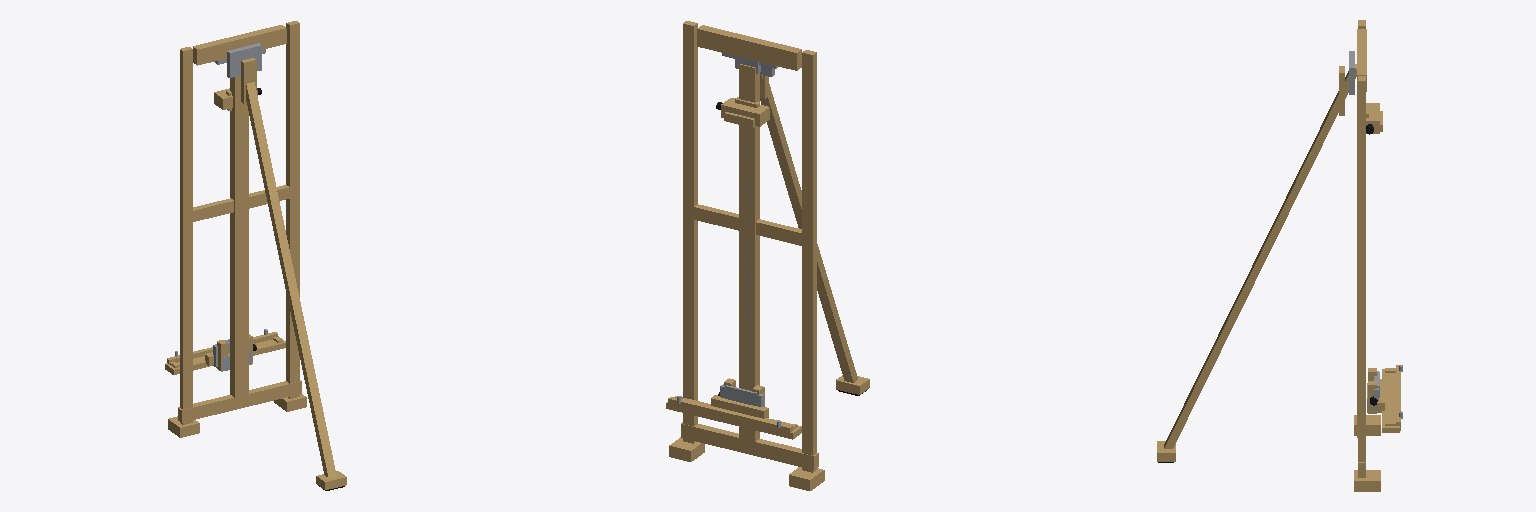
The robot description file, URDF, robot "artists_easel":
<robot name="artists_easel">
  <link name="front_frame">
    <inertial>
      <origin xyz="0 0.018 0.86" rpy="0 0 0" />
      <mass value="8.5" />
      <inertia ixx="2.10573" ixy="0" ixz="0" iyy="2.35053" iyz="0" izz="0.2652" />
      </inertial>
    <visual name="left_upright">
      <origin xyz="-0.245 0 0.845" rpy="0 0 0" />
      <geometry>
        <box size="0.045 0.028 1.68" />
        </geometry>
      <material name="beech_wood">
        <color rgba="0.77 0.65 0.45 1" />
        </material>
      </visual>
    <visual name="right_upright">
      <origin xyz="0.245 0 0.845" rpy="0 0 0" />
      <geometry>
        <box size="0.045 0.028 1.68" />
        </geometry>
      <material name="beech_wood">
        <color rgba="0.77 0.65 0.45 1" />
        </material>
      </visual>
    <visual name="left_foot">
      <origin xyz="-0.245 0.02 0.0225" rpy="0 0 0" />
      <geometry>
        <box size="0.09 0.1 0.045" />
        </geometry>
      <material name="beech_wood">
        <color rgba="0.77 0.65 0.45 1" />
        </material>
      </visual>
    <visual name="right_foot">
      <origin xyz="0.245 0.02 0.0225" rpy="0 0 0" />
      <geometry>
        <box size="0.09 0.1 0.045" />
        </geometry>
      <material name="beech_wood">
        <color rgba="0.77 0.65 0.45 1" />
        </material>
      </visual>
    <visual name="left_foot_pad">
      <origin xyz="-0.245 0.022 0.006" rpy="0 0 0" />
      <geometry>
        <box size="0.074 0.082 0.012" />
        </geometry>
      <material name="rubber">
        <color rgba="0.08 0.08 0.09 1" />
        </material>
      </visual>
    <visual name="right_foot_pad">
      <origin xyz="0.245 0.022 0.006" rpy="0 0 0" />
      <geometry>
        <box size="0.074 0.082 0.012" />
        </geometry>
      <material name="rubber">
        <color rgba="0.08 0.08 0.09 1" />
        </material>
      </visual>
    <visual name="bottom_stretcher">
      <origin xyz="0 0 0.085" rpy="0 0 0" />
      <geometry>
        <box size="0.55 0.032 0.055" />
        </geometry>
      <material name="beech_wood">
        <color rgba="0.77 0.65 0.45 1" />
        </material>
      </visual>
    <visual name="mid_stretcher">
      <origin xyz="0 0 0.95" rpy="0 0 0" />
      <geometry>
        <box size="0.495 0.028 0.05" />
        </geometry>
      <material name="beech_wood">
        <color rgba="0.77 0.65 0.45 1" />
        </material>
      </visual>
    <visual name="top_cap">
      <origin xyz="0 0 1.645" rpy="0 0 0" />
      <geometry>
        <box size="0.41 0.038 0.07" />
        </geometry>
      <material name="beech_wood">
        <color rgba="0.77 0.65 0.45 1" />
        </material>
      </visual>
    <visual name="center_mast">
      <origin xyz="0 0 0.84" rpy="0 0 0" />
      <geometry>
        <box size="0.065 0.034 1.48" />
        </geometry>
      <material name="beech_wood">
        <color rgba="0.77 0.65 0.45 1" />
        </material>
      </visual>
    <visual name="slide_track">
      <origin xyz="0 0.01 0.86" rpy="0 0 0" />
      <geometry>
        <box size="0.03 0.014 1.18" />
        </geometry>
      <material name="brushed_steel">
        <color rgba="0.63 0.65 0.67 1" />
        </material>
      </visual>
    <visual name="top_holder_body">
      <origin xyz="0 0.03 1.405" rpy="0 0 0" />
      <geometry>
        <box size="0.16 0.072 0.05" />
        </geometry>
      <material name="beech_wood">
        <color rgba="0.77 0.65 0.45 1" />
        </material>
      </visual>
    <visual name="top_holder_lip">
      <origin xyz="0 0.066 1.392" rpy="0 0 0" />
      <geometry>
        <box size="0.12 0.026 0.032" />
        </geometry>
      <material name="beech_wood">
        <color rgba="0.77 0.65 0.45 1" />
        </material>
      </visual>
    <visual name="top_holder_backplate">
      <origin xyz="0 0.016 1.404" rpy="0 0 0" />
      <geometry>
        <box size="0.092 0.022 0.08" />
        </geometry>
      <material name="beech_wood">
        <color rgba="0.77 0.65 0.45 1" />
        </material>
      </visual>
    <visual name="top_holder_knob">
      <origin xyz="0.082 0.03 1.405" rpy="0 1.5708 0" />
      <geometry>
        <cylinder radius="0.014" length="0.06" />
        </geometry>
      <material name="black_plastic">
        <color rgba="0.14 0.14 0.15 1" />
        </material>
      </visual>
    <visual name="rear_hinge_boss">
      <origin xyz="0 -0.006 1.62" rpy="0 0 0" />
      <geometry>
        <box size="0.22 0.02 0.06" />
        </geometry>
      <material name="brushed_steel">
        <color rgba="0.63 0.65 0.67 1" />
        </material>
      </visual>
    <visual name="hinge_reinforcement">
      <origin xyz="0 0 1.602" rpy="0 0 0" />
      <geometry>
        <box size="0.08 0.024 0.09" />
        </geometry>
      <material name="brushed_steel">
        <color rgba="0.63 0.65 0.67 1" />
        </material>
      </visual>
    <collision name="front_frame__left_upright">
      <origin xyz="-0.245 0 0.845" rpy="0 0 0" />
      <geometry>
        <box size="0.045 0.028 1.68" />
        </geometry>
      </collision>
    <collision name="front_frame__right_upright">
      <origin xyz="0.245 0 0.845" rpy="0 0 0" />
      <geometry>
        <box size="0.045 0.028 1.68" />
        </geometry>
      </collision>
    <collision name="front_frame__left_foot">
      <origin xyz="-0.245 0.02 0.0225" rpy="0 0 0" />
      <geometry>
        <box size="0.09 0.1 0.045" />
        </geometry>
      </collision>
    <collision name="front_frame__right_foot">
      <origin xyz="0.245 0.02 0.0225" rpy="0 0 0" />
      <geometry>
        <box size="0.09 0.1 0.045" />
        </geometry>
      </collision>
    <collision name="front_frame__left_foot_pad">
      <origin xyz="-0.245 0.022 0.006" rpy="0 0 0" />
      <geometry>
        <box size="0.074 0.082 0.012" />
        </geometry>
      </collision>
    <collision name="front_frame__right_foot_pad">
      <origin xyz="0.245 0.022 0.006" rpy="0 0 0" />
      <geometry>
        <box size="0.074 0.082 0.012" />
        </geometry>
      </collision>
    <collision name="front_frame__bottom_stretcher">
      <origin xyz="0 0 0.085" rpy="0 0 0" />
      <geometry>
        <box size="0.55 0.032 0.055" />
        </geometry>
      </collision>
    <collision name="front_frame__mid_stretcher">
      <origin xyz="0 0 0.95" rpy="0 0 0" />
      <geometry>
        <box size="0.495 0.028 0.05" />
        </geometry>
      </collision>
    <collision name="front_frame__top_cap">
      <origin xyz="0 0 1.645" rpy="0 0 0" />
      <geometry>
        <box size="0.41 0.038 0.07" />
        </geometry>
      </collision>
    <collision name="front_frame__center_mast">
      <origin xyz="0 0 0.84" rpy="0 0 0" />
      <geometry>
        <box size="0.065 0.034 1.48" />
        </geometry>
      </collision>
    <collision name="front_frame__slide_track">
      <origin xyz="0 0.01 0.86" rpy="0 0 0" />
      <geometry>
        <box size="0.03 0.014 1.18" />
        </geometry>
      </collision>
    <collision name="front_frame__top_holder_body">
      <origin xyz="0 0.03 1.405" rpy="0 0 0" />
      <geometry>
        <box size="0.16 0.072 0.05" />
        </geometry>
      </collision>
    <collision name="front_frame__top_holder_lip">
      <origin xyz="0 0.066 1.392" rpy="0 0 0" />
      <geometry>
        <box size="0.12 0.026 0.032" />
        </geometry>
      </collision>
    <collision name="front_frame__top_holder_backplate">
      <origin xyz="0 0.016 1.404" rpy="0 0 0" />
      <geometry>
        <box size="0.092 0.022 0.08" />
        </geometry>
      </collision>
    <collision name="front_frame__top_holder_knob">
      <origin xyz="0.082 0.03 1.405" rpy="0 1.5708 0" />
      <geometry>
        <cylinder radius="0.014" length="0.06" />
        </geometry>
      </collision>
    <collision name="front_frame__rear_hinge_boss">
      <origin xyz="0 -0.006 1.62" rpy="0 0 0" />
      <geometry>
        <box size="0.22 0.02 0.06" />
        </geometry>
      </collision>
    <collision name="front_frame__hinge_reinforcement">
      <origin xyz="0 0 1.602" rpy="0 0 0" />
      <geometry>
        <box size="0.08 0.024 0.09" />
        </geometry>
      </collision>
    </link>
  <link name="canvas_tray">
    <inertial>
      <origin xyz="0 0.07 0.055" rpy="0 0 0" />
      <mass value="1.7" />
      <inertia ixx="0.00517083" ixy="0" ixz="0" iyy="0.0440867" iyz="0" izz="0.0437042" />
      </inertial>
    <visual name="mast_clamp">
      <origin xyz="0 0.022 0.03" rpy="0 0 0" />
      <geometry>
        <box size="0.14 0.044 0.06" />
        </geometry>
      <material name="brushed_steel">
        <color rgba="0.63 0.65 0.67 1" />
        </material>
      </visual>
    <visual name="left_carriage_cheek">
      <origin xyz="-0.058 0.02 0.06" rpy="0 0 0" />
      <geometry>
        <box size="0.03 0.036 0.12" />
        </geometry>
      <material name="beech_wood">
        <color rgba="0.77 0.65 0.45 1" />
        </material>
      </visual>
    <visual name="right_carriage_cheek">
      <origin xyz="0.058 0.02 0.06" rpy="0 0 0" />
      <geometry>
        <box size="0.03 0.036 0.12" />
        </geometry>
      <material name="beech_wood">
        <color rgba="0.77 0.65 0.45 1" />
        </material>
      </visual>
    <visual name="rear_guide_plate">
      <origin xyz="0 0.042 0.055" rpy="0 0 0" />
      <geometry>
        <box size="0.128 0.01 0.11" />
        </geometry>
      <material name="brushed_steel">
        <color rgba="0.63 0.65 0.67 1" />
        </material>
      </visual>
    <visual name="front_bridge_plate">
      <origin xyz="0 0.035 0.058" rpy="0 0 0" />
      <geometry>
        <box size="0.17 0.02 0.09" />
        </geometry>
      <material name="brushed_steel">
        <color rgba="0.63 0.65 0.67 1" />
        </material>
      </visual>
    <visual name="support_arm">
      <origin xyz="0 0.052 0.04" rpy="0 0 0" />
      <geometry>
        <box size="0.22 0.032 0.04" />
        </geometry>
      <material name="beech_wood">
        <color rgba="0.77 0.65 0.45 1" />
        </material>
      </visual>
    <visual name="tray_board">
      <origin xyz="0 0.09 0.018" rpy="0 0 0" />
      <geometry>
        <box size="0.52 0.068 0.024" />
        </geometry>
      <material name="beech_wood">
        <color rgba="0.77 0.65 0.45 1" />
        </material>
      </visual>
    <visual name="front_lip">
      <origin xyz="0 0.118 0.031" rpy="0 0 0" />
      <geometry>
        <box size="0.5 0.02 0.038" />
        </geometry>
      <material name="beech_wood">
        <color rgba="0.77 0.65 0.45 1" />
        </material>
      </visual>
    <visual name="left_canvas_fence">
      <origin xyz="-0.236 0.094 0.026" rpy="0 0 0" />
      <geometry>
        <box size="0.02 0.054 0.025" />
        </geometry>
      <material name="beech_wood">
        <color rgba="0.77 0.65 0.45 1" />
        </material>
      </visual>
    <visual name="right_canvas_fence">
      <origin xyz="0.236 0.094 0.026" rpy="0 0 0" />
      <geometry>
        <box size="0.02 0.054 0.025" />
        </geometry>
      <material name="beech_wood">
        <color rgba="0.77 0.65 0.45 1" />
        </material>
      </visual>
    <visual name="tray_lock_knob">
      <origin xyz="0.08 0.026 0.058" rpy="0 1.5708 0" />
      <geometry>
        <cylinder radius="0.014" length="0.032" />
        </geometry>
      <material name="black_plastic">
        <color rgba="0.14 0.14 0.15 1" />
        </material>
      </visual>
    <visual name="left_page_stop">
      <origin xyz="-0.205 0.128 0.056" rpy="0 0 0" />
      <geometry>
        <cylinder radius="0.007" length="0.024" />
        </geometry>
      <material name="brushed_steel">
        <color rgba="0.63 0.65 0.67 1" />
        </material>
      </visual>
    <visual name="right_page_stop">
      <origin xyz="0.205 0.128 0.056" rpy="0 0 0" />
      <geometry>
        <cylinder radius="0.007" length="0.024" />
        </geometry>
      <material name="brushed_steel">
        <color rgba="0.63 0.65 0.67 1" />
        </material>
      </visual>
    <collision name="canvas_tray__mast_clamp">
      <origin xyz="0 0.022 0.03" rpy="0 0 0" />
      <geometry>
        <box size="0.14 0.044 0.06" />
        </geometry>
      </collision>
    <collision name="canvas_tray__left_carriage_cheek">
      <origin xyz="-0.058 0.02 0.06" rpy="0 0 0" />
      <geometry>
        <box size="0.03 0.036 0.12" />
        </geometry>
      </collision>
    <collision name="canvas_tray__right_carriage_cheek">
      <origin xyz="0.058 0.02 0.06" rpy="0 0 0" />
      <geometry>
        <box size="0.03 0.036 0.12" />
        </geometry>
      </collision>
    <collision name="canvas_tray__rear_guide_plate">
      <origin xyz="0 0.042 0.055" rpy="0 0 0" />
      <geometry>
        <box size="0.128 0.01 0.11" />
        </geometry>
      </collision>
    <collision name="canvas_tray__front_bridge_plate">
      <origin xyz="0 0.035 0.058" rpy="0 0 0" />
      <geometry>
        <box size="0.17 0.02 0.09" />
        </geometry>
      </collision>
    <collision name="canvas_tray__support_arm">
      <origin xyz="0 0.052 0.04" rpy="0 0 0" />
      <geometry>
        <box size="0.22 0.032 0.04" />
        </geometry>
      </collision>
    <collision name="canvas_tray__tray_board">
      <origin xyz="0 0.09 0.018" rpy="0 0 0" />
      <geometry>
        <box size="0.52 0.068 0.024" />
        </geometry>
      </collision>
    <collision name="canvas_tray__front_lip">
      <origin xyz="0 0.118 0.031" rpy="0 0 0" />
      <geometry>
        <box size="0.5 0.02 0.038" />
        </geometry>
      </collision>
    <collision name="canvas_tray__left_canvas_fence">
      <origin xyz="-0.236 0.094 0.026" rpy="0 0 0" />
      <geometry>
        <box size="0.02 0.054 0.025" />
        </geometry>
      </collision>
    <collision name="canvas_tray__right_canvas_fence">
      <origin xyz="0.236 0.094 0.026" rpy="0 0 0" />
      <geometry>
        <box size="0.02 0.054 0.025" />
        </geometry>
      </collision>
    <collision name="canvas_tray__tray_lock_knob">
      <origin xyz="0.08 0.026 0.058" rpy="0 1.5708 0" />
      <geometry>
        <cylinder radius="0.014" length="0.032" />
        </geometry>
      </collision>
    <collision name="canvas_tray__left_page_stop">
      <origin xyz="-0.205 0.128 0.056" rpy="0 0 0" />
      <geometry>
        <cylinder radius="0.007" length="0.024" />
        </geometry>
      </collision>
    <collision name="canvas_tray__right_page_stop">
      <origin xyz="0.205 0.128 0.056" rpy="0 0 0" />
      <geometry>
        <cylinder radius="0.007" length="0.024" />
        </geometry>
      </collision>
    </link>
  <link name="rear_leg">
    <inertial>
      <origin xyz="0 -0.39 -0.88" rpy="0 0 0" />
      <mass value="2.3" />
      <inertia ixx="0.710317" ixy="0" ixz="0" iyy="0.599917" iyz="0" izz="0.12282" />
      </inertial>
    <visual name="rear_support">
      <origin xyz="0 -0.358829 -0.803518" rpy="-0.42 0 0" />
      <geometry>
        <box size="0.038 0.03 1.76" />
        </geometry>
      <material name="beech_wood">
        <color rgba="0.77 0.65 0.45 1" />
        </material>
      </visual>
    <visual name="hinge_yoke">
      <origin xyz="0 -0.016 -0.028" rpy="0 0 0" />
      <geometry>
        <box size="0.15 0.024 0.11" />
        </geometry>
      <material name="brushed_steel">
        <color rgba="0.63 0.65 0.67 1" />
        </material>
      </visual>
    <visual name="upper_clamp_block">
      <origin xyz="0 -0.052 -0.102" rpy="0 0 0" />
      <geometry>
        <box size="0.058 0.024 0.18" />
        </geometry>
      <material name="beech_wood">
        <color rgba="0.77 0.65 0.45 1" />
        </material>
      </visual>
    <visual name="rear_foot">
      <origin xyz="0 -0.71 -1.59" rpy="0 0 0" />
      <geometry>
        <box size="0.1 0.07 0.036" />
        </geometry>
      <material name="beech_wood">
        <color rgba="0.77 0.65 0.45 1" />
        </material>
      </visual>
    <visual name="rear_foot_pad">
      <origin xyz="0 -0.71 -1.612" rpy="0 0 0" />
      <geometry>
        <box size="0.086 0.06 0.008" />
        </geometry>
      <material name="rubber">
        <color rgba="0.08 0.08 0.09 1" />
        </material>
      </visual>
    <collision name="rear_leg__rear_support">
      <origin xyz="0 -0.358829 -0.803518" rpy="-0.42 0 0" />
      <geometry>
        <box size="0.038 0.03 1.76" />
        </geometry>
      </collision>
    <collision name="rear_leg__hinge_yoke">
      <origin xyz="0 -0.016 -0.028" rpy="0 0 0" />
      <geometry>
        <box size="0.15 0.024 0.11" />
        </geometry>
      </collision>
    <collision name="rear_leg__upper_clamp_block">
      <origin xyz="0 -0.052 -0.102" rpy="0 0 0" />
      <geometry>
        <box size="0.058 0.024 0.18" />
        </geometry>
      </collision>
    <collision name="rear_leg__rear_foot">
      <origin xyz="0 -0.71 -1.59" rpy="0 0 0" />
      <geometry>
        <box size="0.1 0.07 0.036" />
        </geometry>
      </collision>
    <collision name="rear_leg__rear_foot_pad">
      <origin xyz="0 -0.71 -1.612" rpy="0 0 0" />
      <geometry>
        <box size="0.086 0.06 0.008" />
        </geometry>
      </collision>
    </link>
  <joint name="tray_height" type="prismatic">
    <origin xyz="0 0.019 0.22" rpy="0 0 0" />
    <parent link="front_frame" />
    <child link="canvas_tray" />
    <axis xyz="0 0 1" />
    <limit effort="40" velocity="0.5" lower="0" upper="0.76" />
    </joint>
  <joint name="rear_leg_fold" type="revolute">
    <origin xyz="0 -0.022 1.62" rpy="0 0 0" />
    <parent link="front_frame" />
    <child link="rear_leg" />
    <axis xyz="1 0 0" />
    <limit effort="25" velocity="1.2" lower="-0.08" upper="0.18" />
    </joint>
  </robot>

--- Render facts (derived) ---
Views: 3 orthographic renders of the robot side by side, from view 1: azimuth 30°, elevation 25°; view 2: azimuth 150°, elevation 25°; view 3: azimuth 270°, elevation 25°.
Model artists_easel with 3 links and 2 joints (1 revolute, 1 prismatic), rooted at front_frame, posed every joint at zero.
Links seen in each view (by area): view 1: front_frame, rear_leg, canvas_tray; view 2: front_frame, rear_leg, canvas_tray; view 3: front_frame, rear_leg, canvas_tray.
Link boxes in pixels (<box>): front_frame: <box>168,21,306,437</box>; rear_leg: <box>227,43,346,490</box>; canvas_tray: <box>165,329,285,374</box>; front_frame: <box>669,21,824,490</box>; rear_leg: <box>735,59,869,395</box>; canvas_tray: <box>666,378,801,439</box>; front_frame: <box>1354,20,1382,491</box>; rear_leg: <box>1157,51,1356,462</box>; canvas_tray: <box>1367,365,1402,432</box>.
Bounding box of the posed robot: 0.58 × 0.921 × 1.69 m (x, y, z).
Geometry: primitives only (box / cylinder / sphere), no mesh files.
